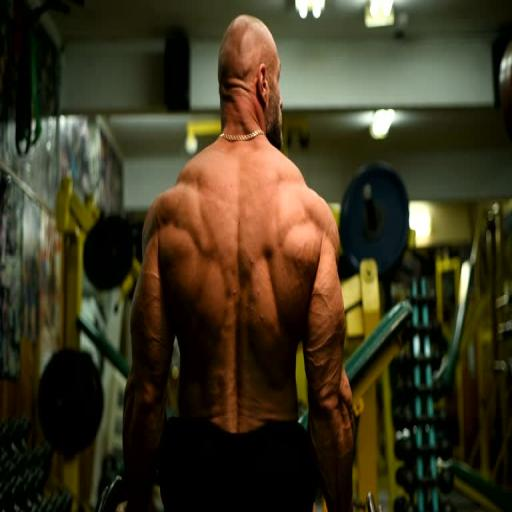Person: (75, 109, 414, 410)
no_goggle: (254, 142, 286, 164)
no_helmet: (203, 113, 299, 168)
none: (118, 178, 378, 355)
